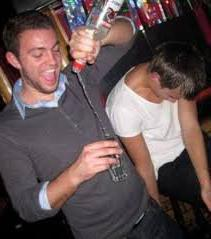Drunk: (21, 31, 64, 92)
